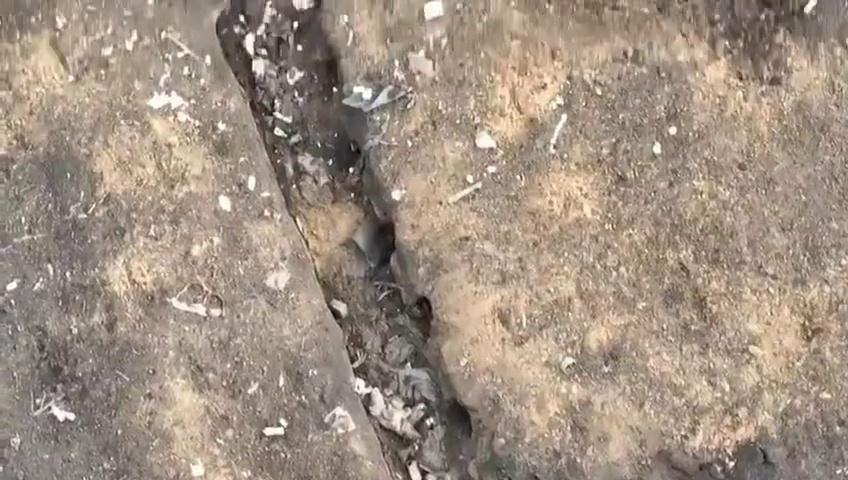person: (356, 378, 428, 461)
trench: (214, 0, 516, 476)
